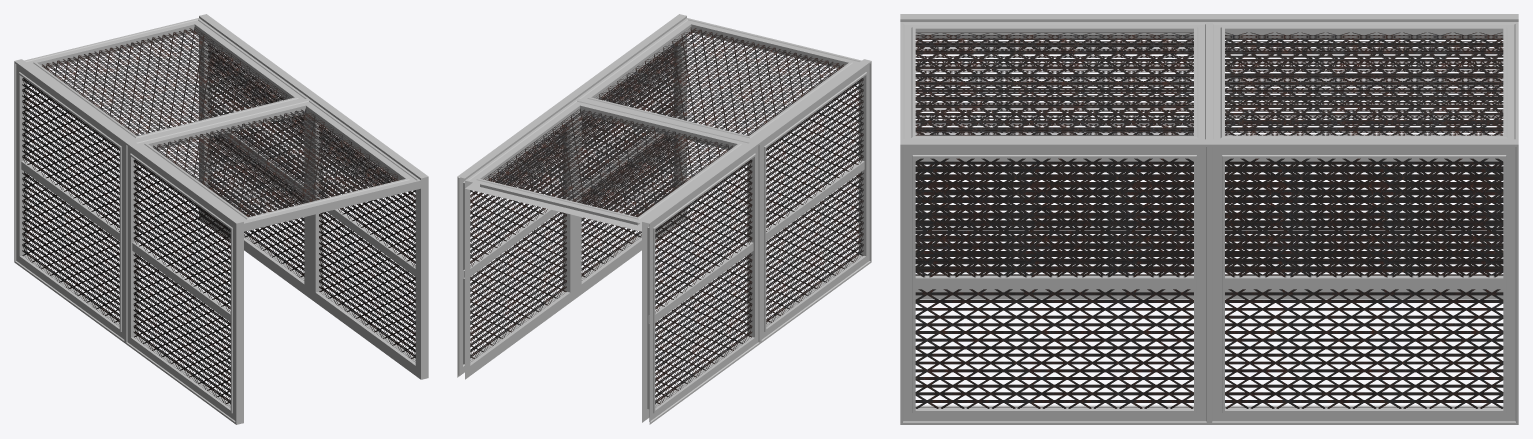
Rendered from SM_Pipe_Fencing_A.fbx.
The picture shows the model from 3 angles, left to right: view 1: azimuth 30°, elevation 25°; view 2: azimuth 150°, elevation 25°; view 3: azimuth 270°, elevation 25°; orthographic projection. The views are drawn at different scales.
Parts seen in each view (by area): view 1: SM_Pipe_Fencing_A; view 2: SM_Pipe_Fencing_A; view 3: SM_Pipe_Fencing_A.
Part boxes in pixels (box(x1,y1,x2,y2)): SM_Pipe_Fencing_A: box(14, 14, 428, 424); SM_Pipe_Fencing_A: box(457, 14, 871, 424); SM_Pipe_Fencing_A: box(900, 14, 1518, 424).
Bounding box in the file's own units: 100 × 100 × 200.
